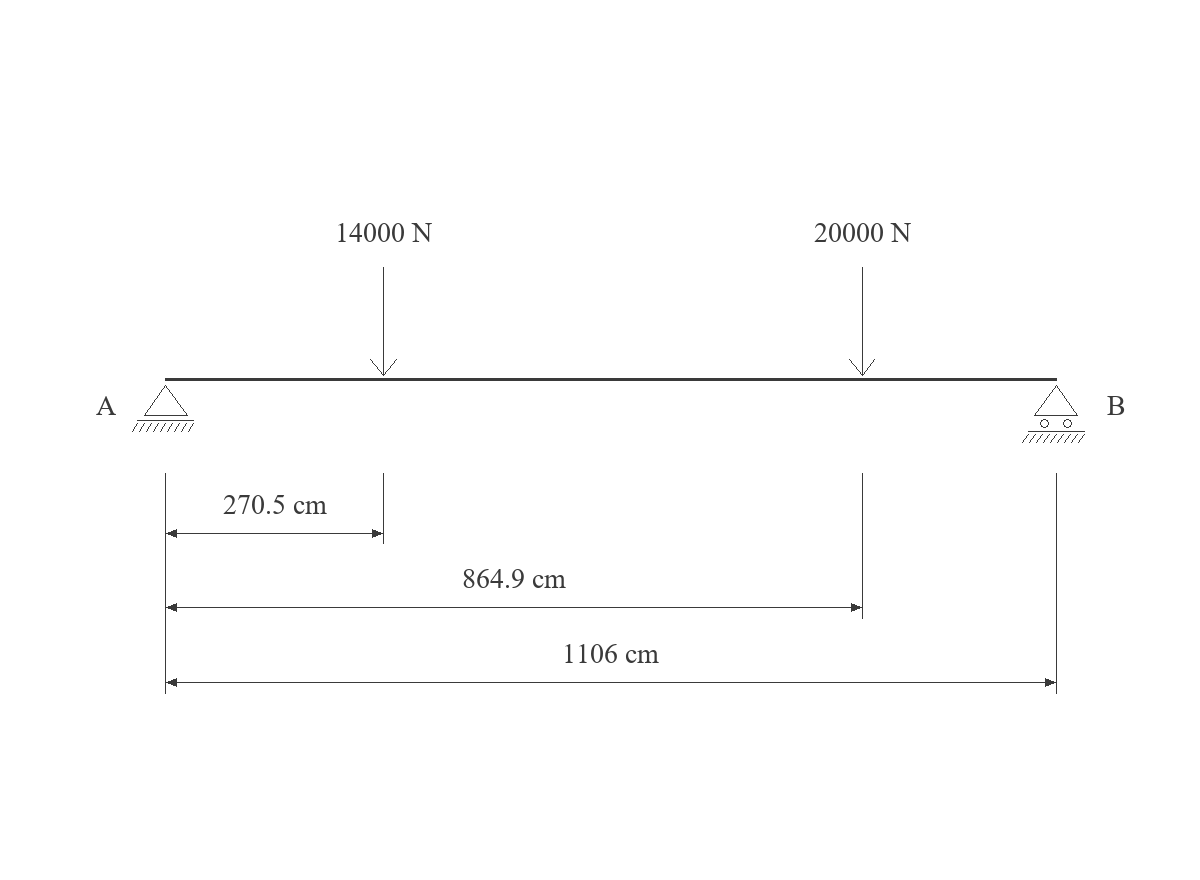pin_support: (132, 385, 194, 432)
point_load: (370, 267, 397, 376), (849, 267, 875, 376)
roller_support: (1022, 385, 1085, 443)
